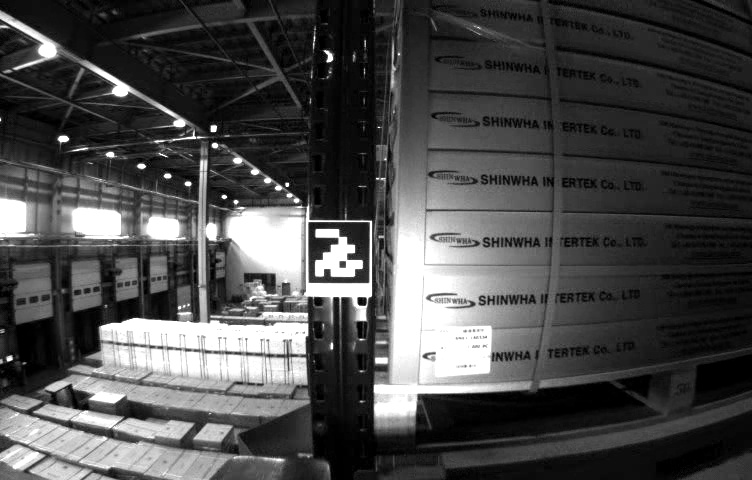True Barcode: (434, 326, 493, 378)
